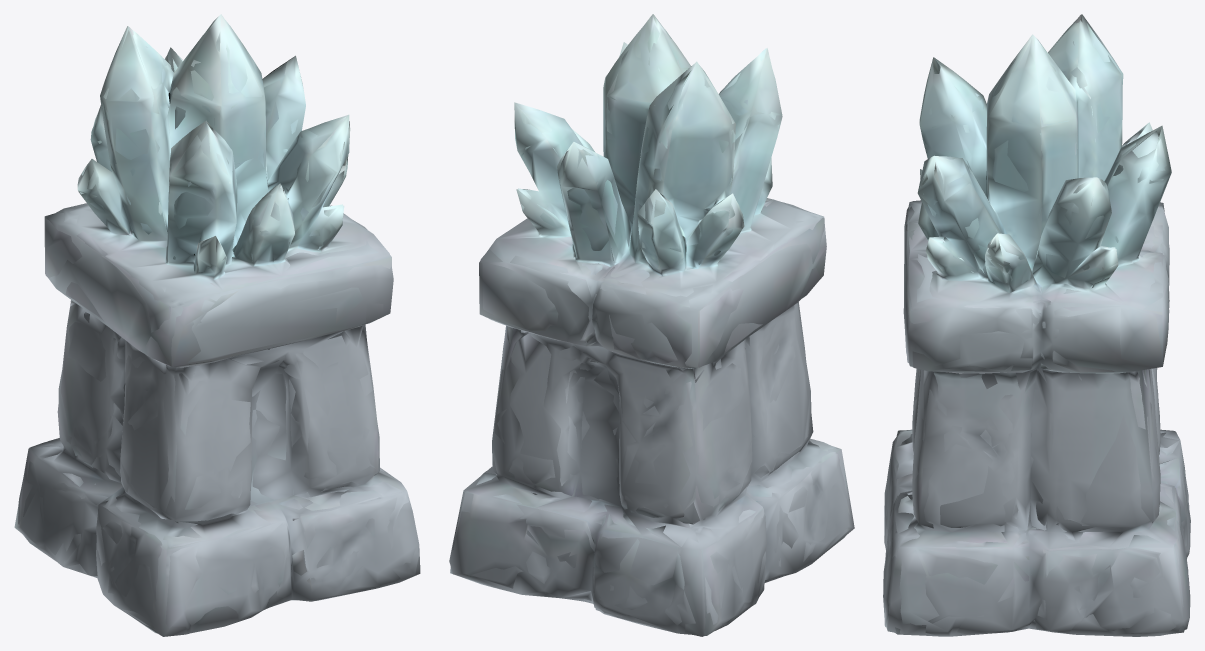
The model's file is frost-DfqwUybx.glb.
The picture shows the model from 3 angles, left to right: view 1: azimuth 30°, elevation 25°; view 2: azimuth 150°, elevation 25°; view 3: azimuth 270°, elevation 25°; orthographic projection.
Size of the model in its own units: 0.5149 by 1 by 0.5156.
1 material, 1 textured.
